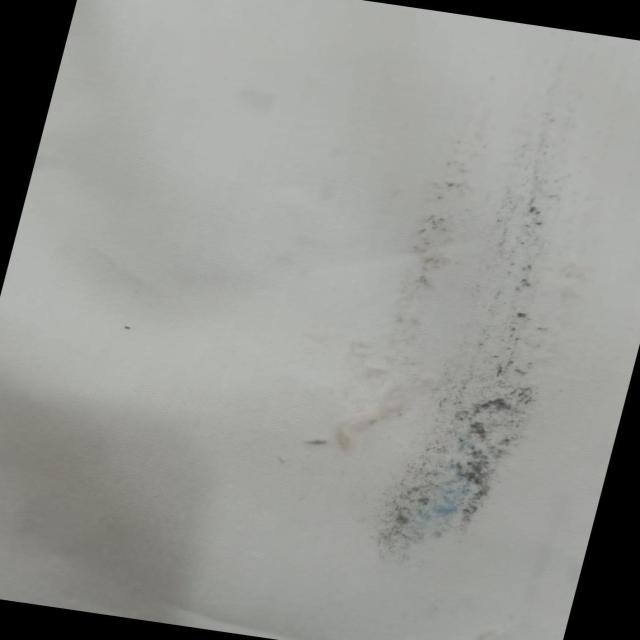stain: (283, 101, 627, 576)
